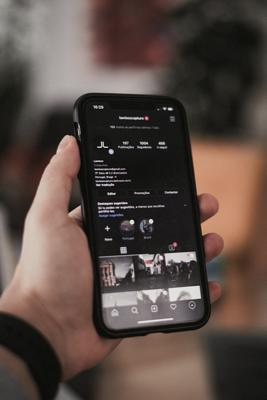Mobile Phone: (71, 90, 212, 338)
